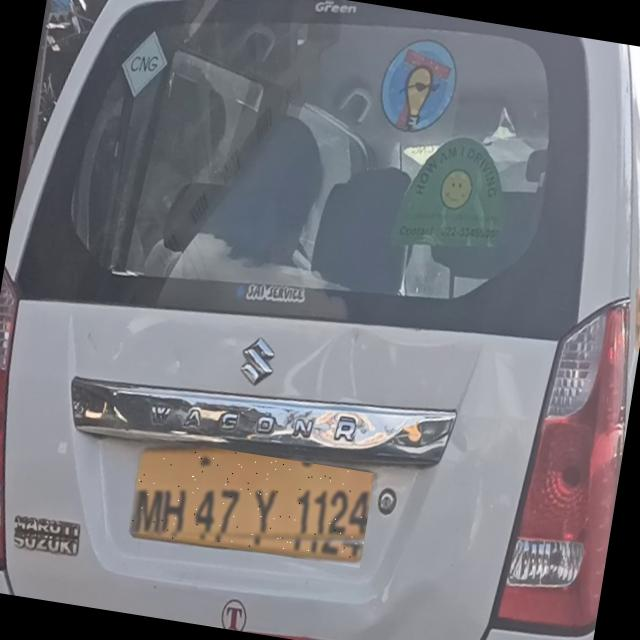Plate: (130, 438, 376, 569)
